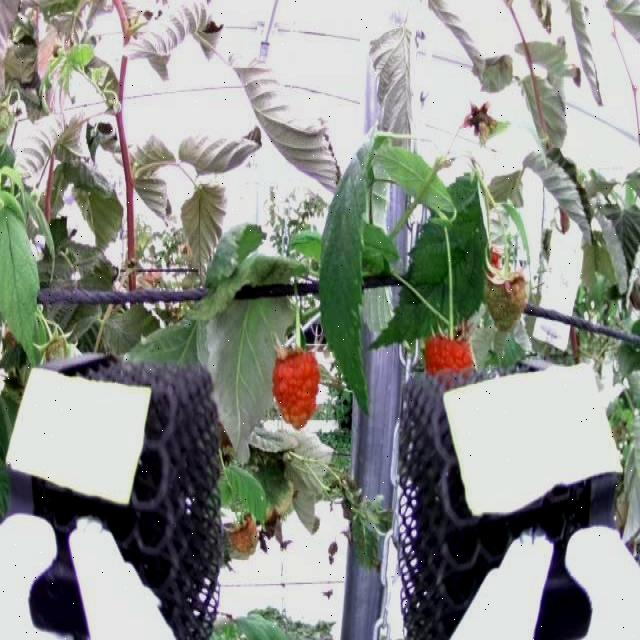Riped berries: (269, 343, 322, 429), (427, 324, 473, 376)
